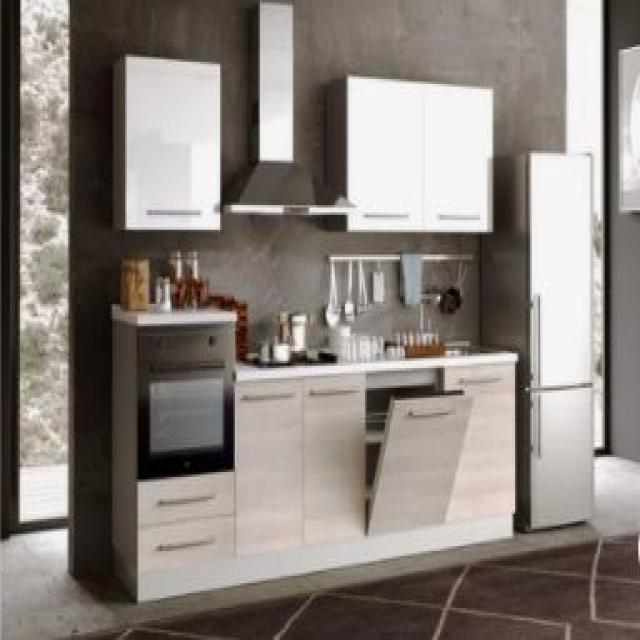dishwasher: (356, 358, 476, 546)
